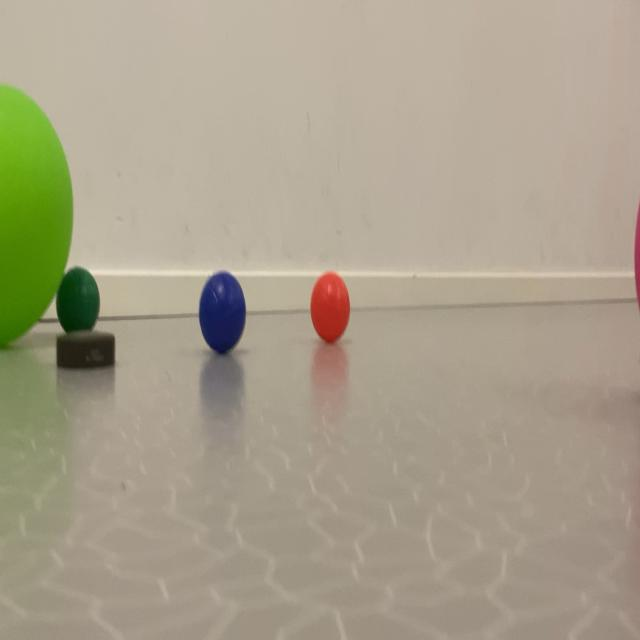7: (308, 204, 374, 426)
blue ball: (59, 261, 358, 380)
green ball: (167, 184, 269, 452)
red ball: (57, 222, 112, 342)
